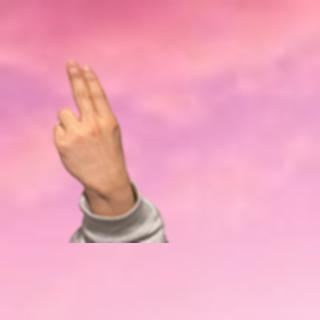DHAVE: (48, 56, 132, 196)
